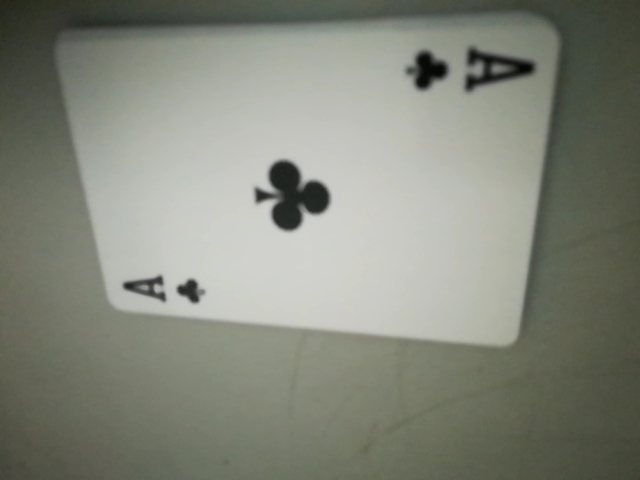mh a: (400, 34, 539, 105), (114, 263, 216, 311)
